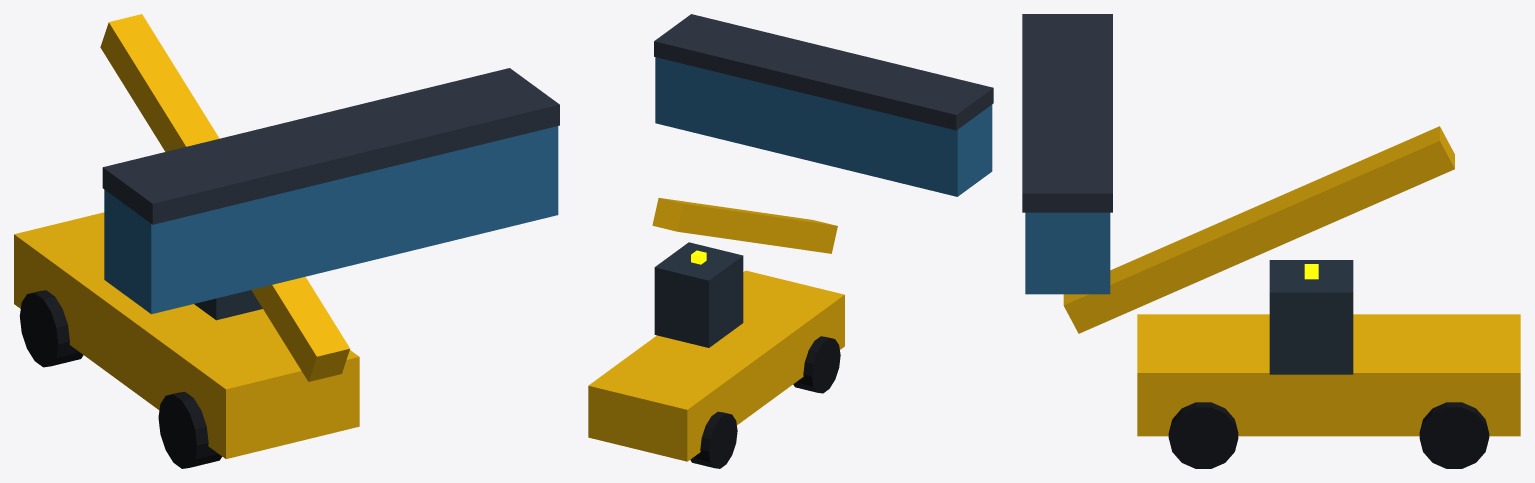
File: reach_stacker.glb
The picture shows the model from 3 angles, left to right: view 1: azimuth 30°, elevation 25°; view 2: azimuth 150°, elevation 25°; view 3: azimuth 270°, elevation 25°; orthographic projection. The views are drawn at different scales.
Visible parts, largest first — view 1: stacker; view 2: stacker; view 3: stacker.
Boxes of the visible parts, x1,y1,x2,y2 form: stacker: (14, 14, 559, 468); stacker: (588, 14, 993, 468); stacker: (1022, 14, 1520, 468).
Bounding box in the file's own units: 12.2 × 10.47 × 14.3.
